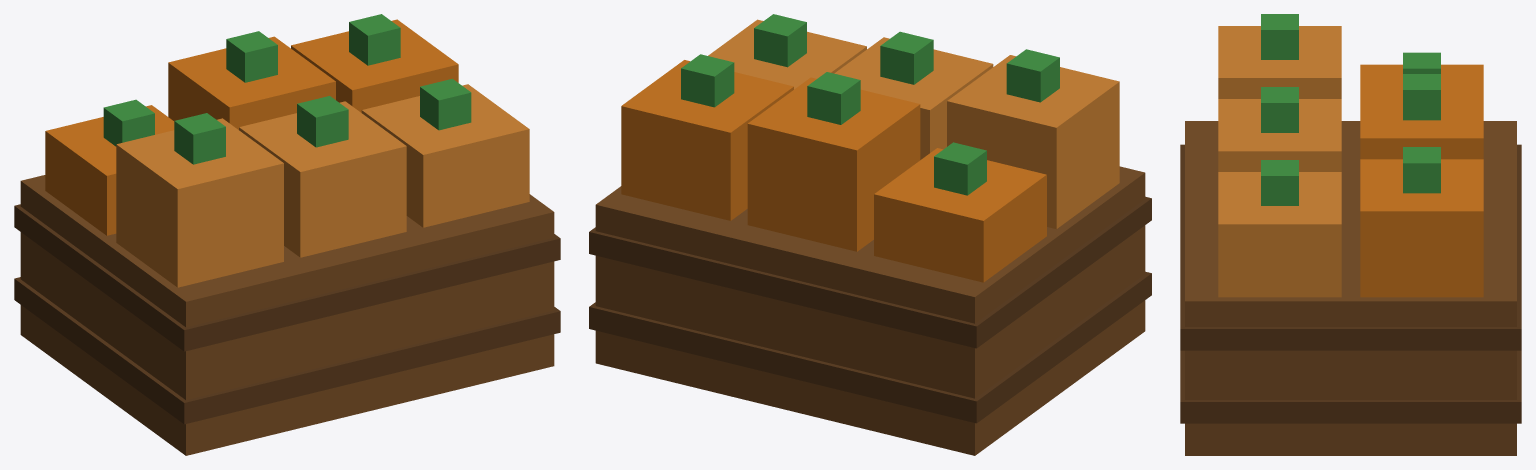
The model's file is cp-crate-carrot.glb.
3 renders of one model, left to right at view 1: azimuth 30°, elevation 25°; view 2: azimuth 150°, elevation 25°; view 3: azimuth 270°, elevation 25°, orthographic. The views are drawn at different scales.
Parts seen in each view (by area): view 1: box-prop; view 2: box-prop; view 3: box-prop.
Part boxes in pixels (x1=…): box-prop: x1=14, y1=14, x2=560, y2=455; box-prop: x1=589, y1=14, x2=1151, y2=455; box-prop: x1=1180, y1=14, x2=1521, y2=455.
Bounding box in the file's own units: 0.92 × 0.66 × 0.72.
